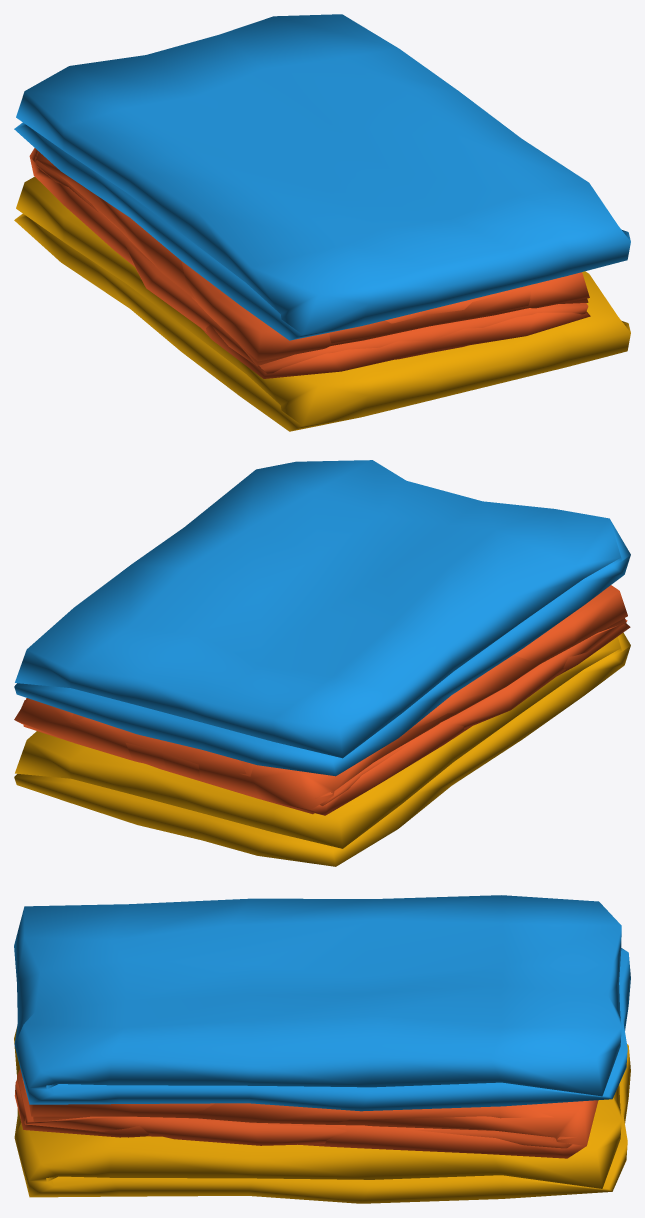
Rendered from clothes_V1.fbx.
3 renders of one model, top to bottom at view 1: azimuth 30°, elevation 25°; view 2: azimuth 150°, elevation 25°; view 3: azimuth 270°, elevation 25°, orthographic. The views are drawn at different scales.
Parts seen in each view (by area): view 1: clothe_base.001_Cube.003, clothe_base.001_Cube.002, clothe_base.001_Cube.001; view 2: clothe_base.001_Cube.003, clothe_base.001_Cube.002, clothe_base.001_Cube.001; view 3: clothe_base.001_Cube.003, clothe_base.001_Cube.002, clothe_base.001_Cube.001.
Boxes of the visible parts, x1,y1,x2,y2 form: clothe_base.001_Cube.003: (14, 14, 630, 340); clothe_base.001_Cube.002: (14, 176, 630, 431); clothe_base.001_Cube.001: (29, 148, 590, 378); clothe_base.001_Cube.003: (14, 460, 630, 776); clothe_base.001_Cube.002: (14, 632, 630, 866); clothe_base.001_Cube.001: (14, 585, 630, 815); clothe_base.001_Cube.003: (14, 895, 630, 1111); clothe_base.001_Cube.002: (14, 1028, 630, 1203); clothe_base.001_Cube.001: (14, 1069, 598, 1158).
Size of the model in its own units: 2729 by 1078 by 3865.
